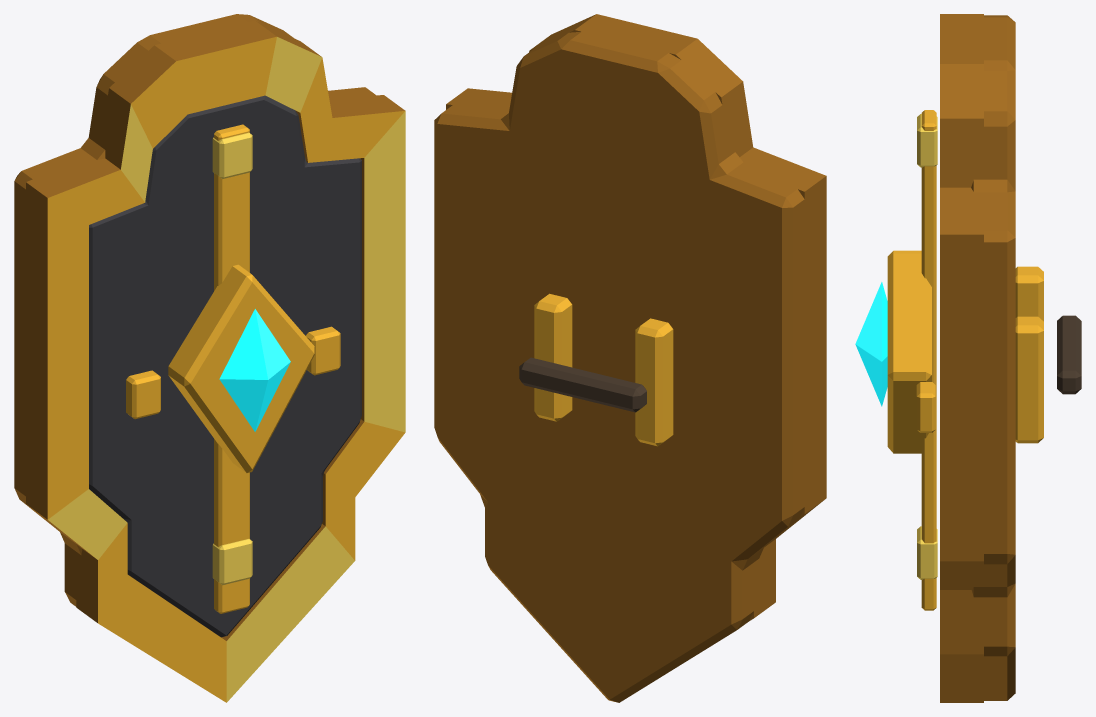
File: GoldenShield.fbx
3 renders of one model, left to right at view 1: azimuth 30°, elevation 25°; view 2: azimuth 150°, elevation 25°; view 3: azimuth 270°, elevation 25°, orthographic.
Parts seen in each view (by area): view 1: GoldenShield; view 2: GoldenShield; view 3: GoldenShield.
Boxes of the visible parts, left/top/right/bottom form: GoldenShield: left=14, top=14, right=405, bottom=702; GoldenShield: left=434, top=14, right=826, bottom=702; GoldenShield: left=855, top=14, right=1081, bottom=702.
Size of the model in its own units: 71 by 124 by 38.3.
